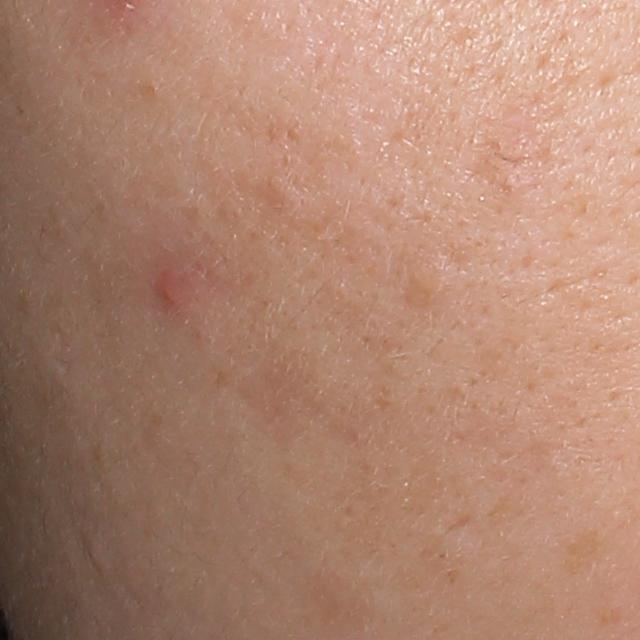atrophic_scar: (440, 510, 477, 538)
papule: (153, 270, 194, 326)
